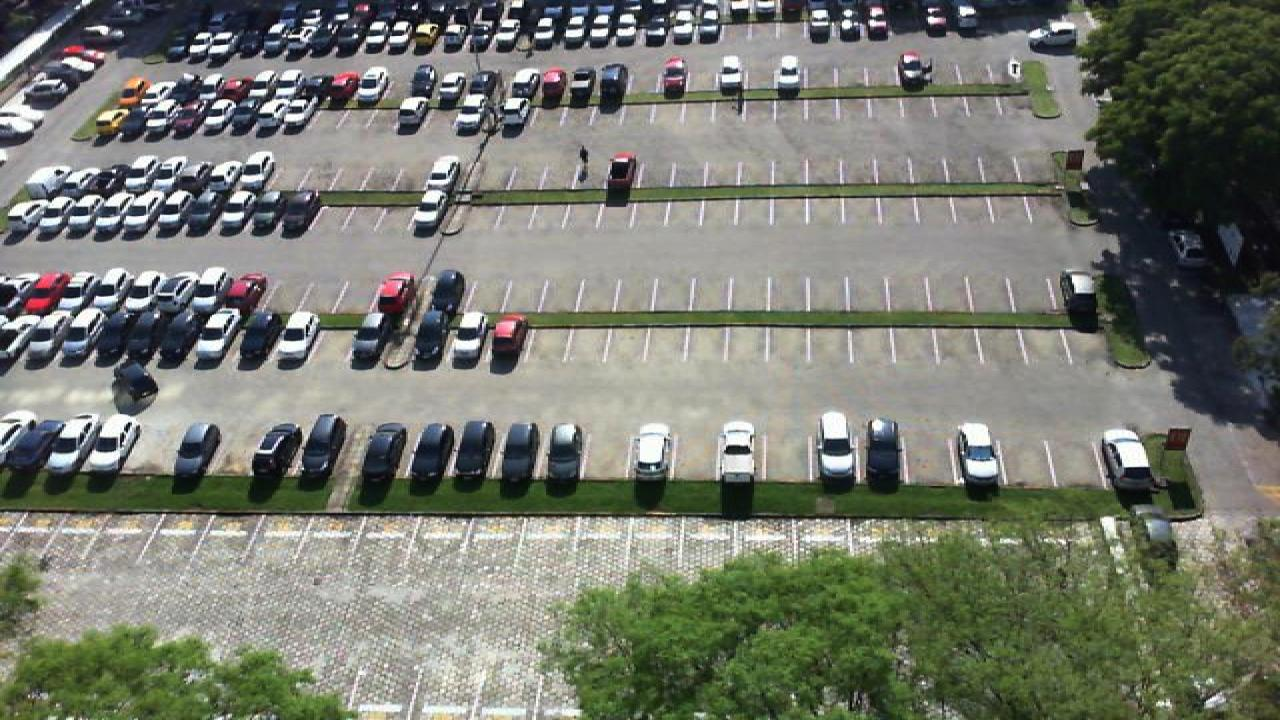Car: (810, 410, 860, 481), (32, 412, 92, 471), (1102, 428, 1158, 488), (84, 412, 140, 471), (954, 422, 1004, 486), (300, 412, 348, 478), (714, 420, 760, 486), (252, 423, 302, 483), (496, 420, 546, 478), (360, 423, 410, 481), (862, 415, 904, 483), (0, 411, 48, 470), (452, 420, 500, 478), (628, 422, 676, 479), (176, 421, 224, 478), (154, 306, 204, 360), (406, 420, 452, 478), (108, 360, 158, 412), (270, 309, 320, 360), (192, 307, 240, 360), (12, 312, 64, 360), (232, 308, 278, 361), (440, 312, 488, 361), (84, 309, 132, 358), (398, 309, 444, 360), (120, 307, 166, 358), (50, 310, 98, 358), (74, 268, 124, 314), (548, 422, 586, 481), (352, 309, 394, 360), (184, 266, 230, 312), (422, 269, 466, 317), (222, 272, 270, 316), (110, 268, 158, 312), (2, 271, 50, 315), (272, 189, 320, 233), (486, 315, 530, 362), (148, 271, 196, 314), (36, 272, 84, 315), (370, 272, 414, 318), (142, 190, 188, 232), (240, 189, 284, 232), (176, 189, 220, 232), (208, 188, 250, 232), (48, 192, 92, 234), (14, 192, 58, 234), (80, 192, 124, 233), (148, 154, 190, 195), (1062, 269, 1100, 314), (112, 192, 154, 232), (116, 154, 158, 194), (498, 64, 538, 104), (178, 156, 218, 194), (414, 189, 450, 231), (426, 154, 462, 196), (22, 166, 66, 200), (242, 151, 278, 192), (86, 160, 126, 196), (54, 166, 96, 200), (602, 152, 636, 193), (596, 62, 630, 103), (564, 65, 598, 106), (0, 312, 30, 358), (210, 158, 248, 194), (278, 96, 316, 132), (216, 98, 254, 134), (354, 64, 388, 104), (246, 100, 286, 134), (188, 74, 228, 108), (154, 74, 194, 108), (1172, 227, 1206, 267), (1032, 22, 1080, 50), (288, 68, 324, 105), (714, 53, 746, 94), (318, 70, 354, 106), (532, 68, 566, 106), (258, 71, 296, 105), (224, 73, 262, 107), (184, 101, 222, 135), (150, 101, 188, 135), (498, 96, 534, 130), (116, 104, 154, 136), (658, 56, 688, 96), (118, 76, 154, 108), (774, 54, 802, 94), (436, 71, 468, 106), (396, 96, 432, 127), (466, 96, 498, 130), (90, 108, 124, 140), (898, 50, 928, 86), (470, 68, 500, 102), (412, 63, 438, 98)
